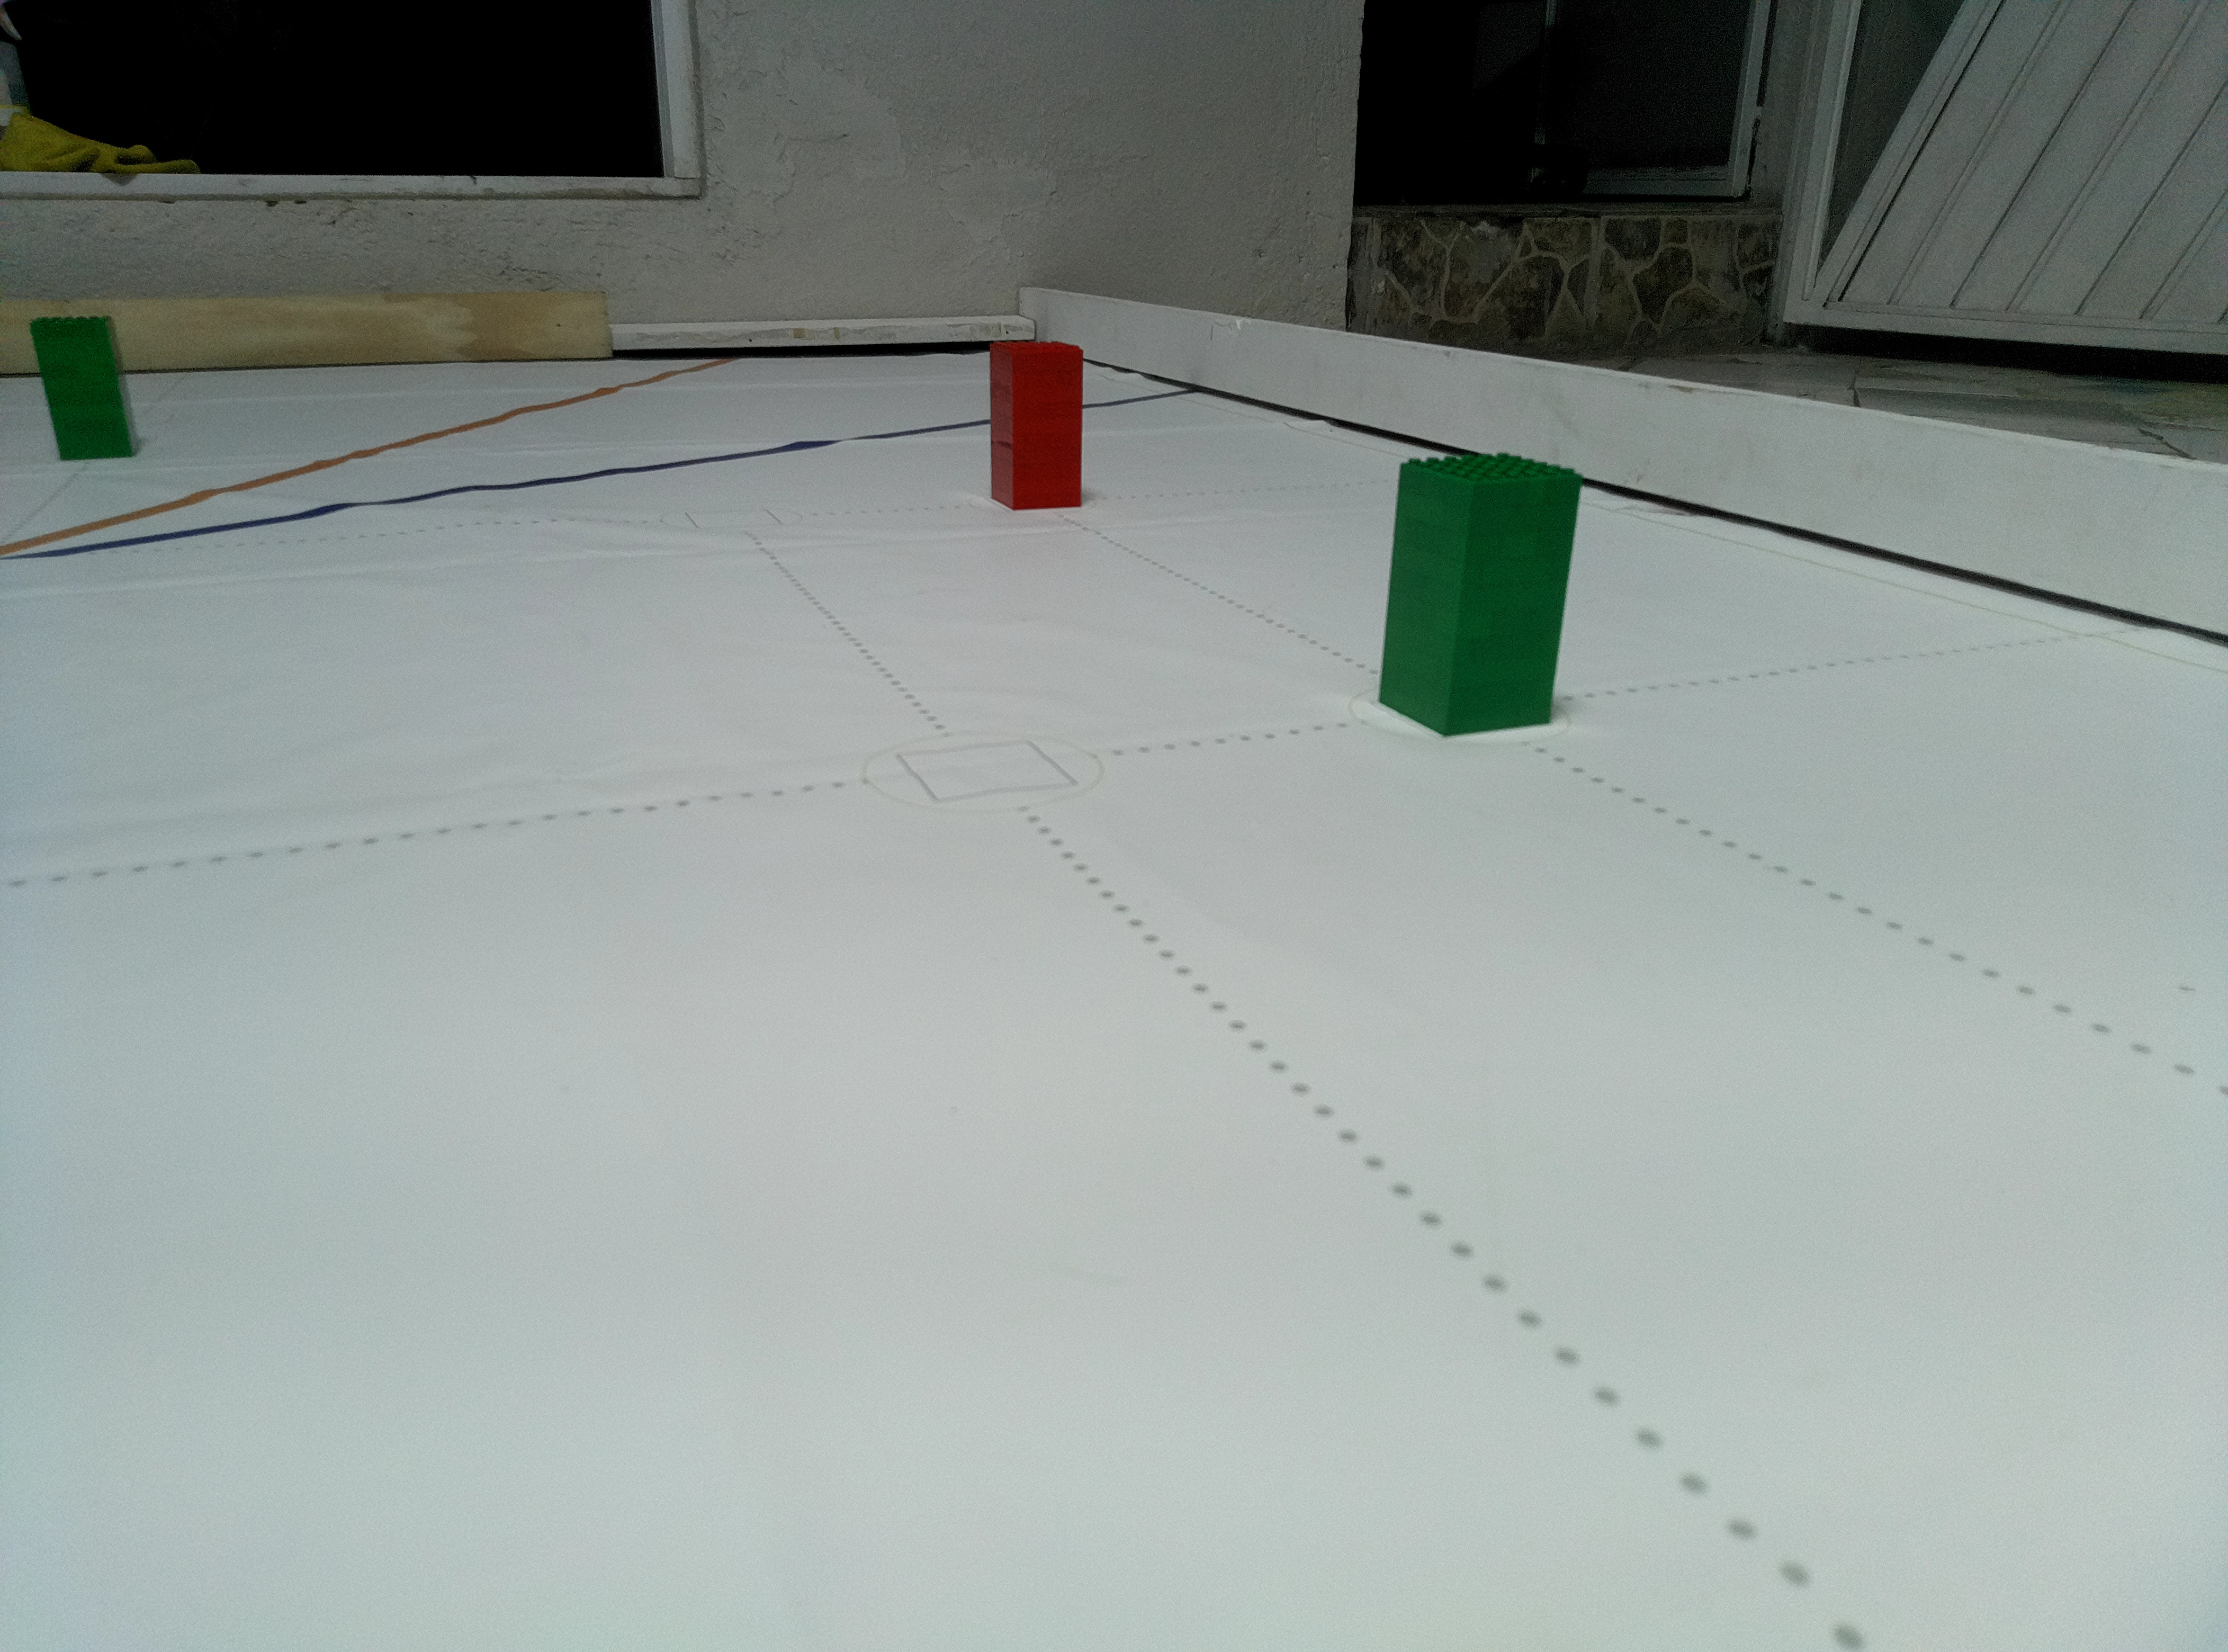greenbox: (1374, 449, 1583, 739), (26, 316, 142, 465)
redbox: (987, 338, 1086, 514)
